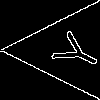Y: (41, 25, 100, 77)
